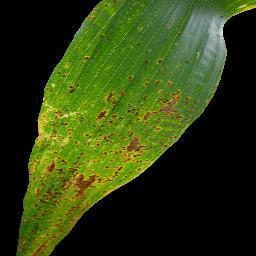Corn_Common_Rust: (25, 67, 200, 180), (15, 181, 131, 256), (53, 51, 96, 67), (141, 53, 169, 67), (97, 0, 120, 8), (86, 8, 99, 22), (181, 56, 192, 66), (96, 34, 108, 39), (95, 29, 108, 32)
